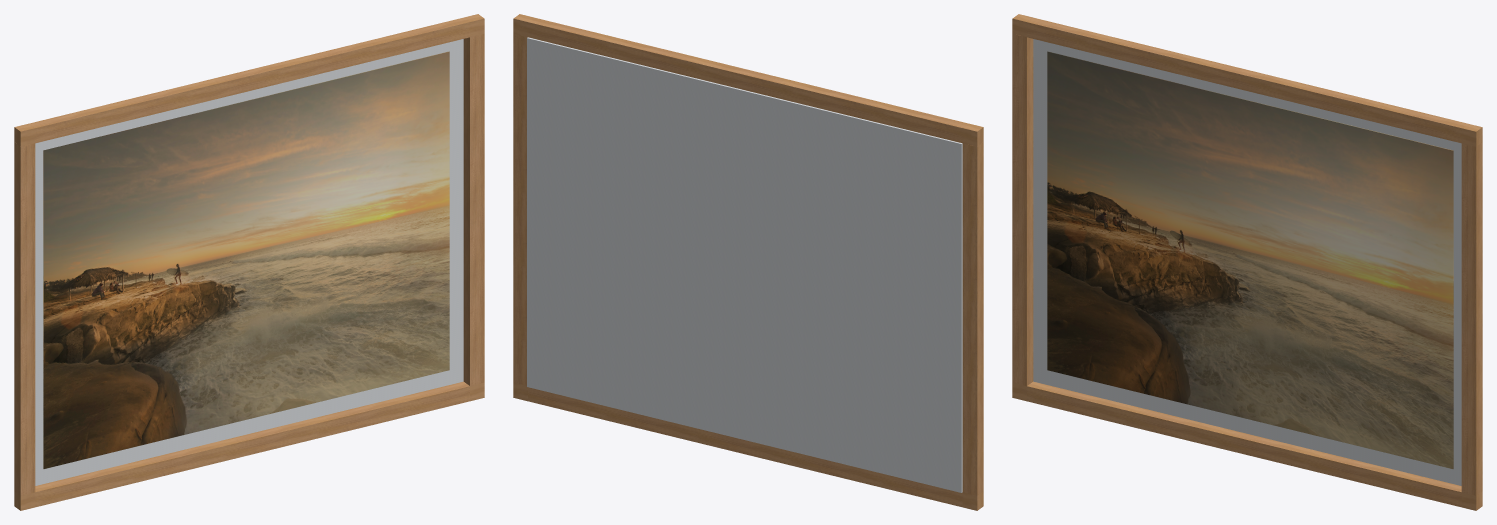
The model's file is frame.glb.
3 views of the same model, side by side, from view 1: azimuth 30°, elevation 25°; view 2: azimuth 150°, elevation 25°; view 3: azimuth 330°, elevation 25° (orthographic).
Visible parts, largest first — view 1: photo, Backing, B, F, H, D; view 2: Backing, B, H, F, D; view 3: photo, Backing, B, F, D, H.
Part boxes in pixels (<box>): photo: <box>43,51,449,468</box>; Backing: <box>35,39,463,485</box>; B: <box>29,17,469,143</box>; F: <box>35,381,469,507</box>; H: <box>14,142,35,495</box>; D: <box>463,34,484,385</box>; Backing: <box>527,37,962,492</box>; B: <box>528,17,968,143</box>; H: <box>962,142,983,495</box>; F: <box>528,387,962,507</box>; D: <box>513,34,527,385</box>; photo: <box>1047,51,1453,468</box>; Backing: <box>1033,39,1461,485</box>; B: <box>1027,17,1467,143</box>; F: <box>1027,381,1461,507</box>; D: <box>1461,142,1482,495</box>; H: <box>1012,34,1033,385</box>.
Size of what is drawn, in the model's own units: 1.02 by 0.8001 by 0.028.
3 materials, 3 textured.
